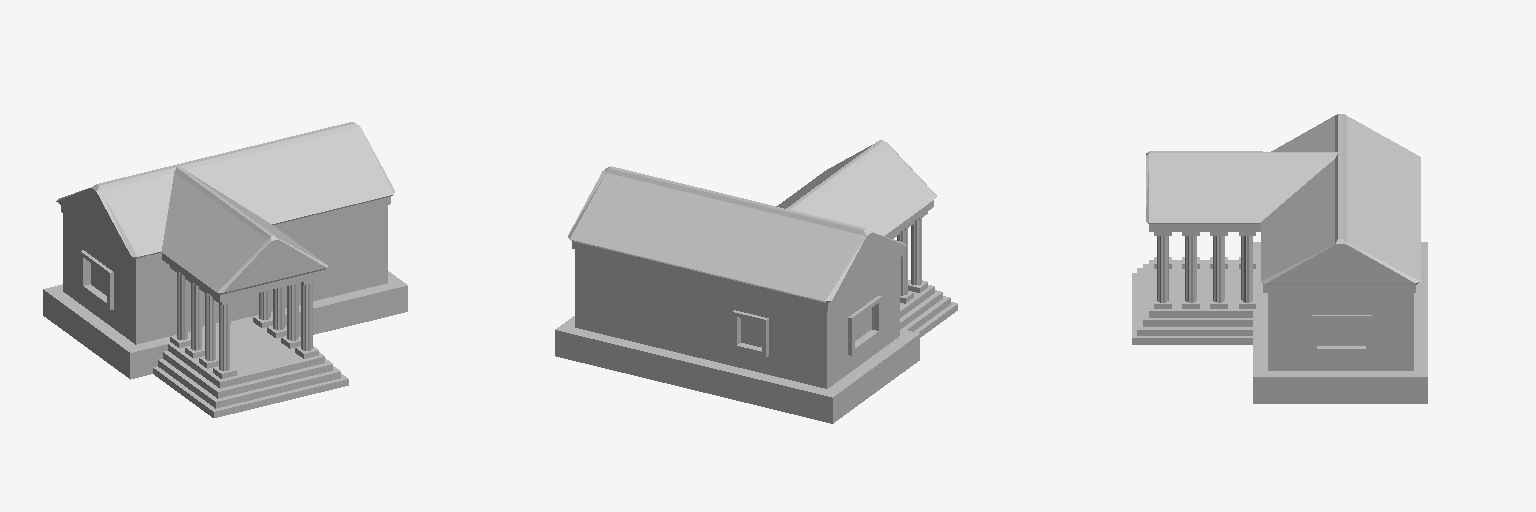
File: CasachicaV1.obj
3 renders of one model, left to right at view 1: azimuth 30°, elevation 25°; view 2: azimuth 150°, elevation 25°; view 3: azimuth 270°, elevation 25°, orthographic.
Visible parts, largest first — view 1: Casachica_m Casachica; view 2: Casachica_m Casachica; view 3: Casachica_m Casachica.
Boxes of the visible parts, x1,y1,x2,y2 form: Casachica_m Casachica: [43, 122, 407, 417]; Casachica_m Casachica: [555, 140, 957, 423]; Casachica_m Casachica: [1132, 114, 1427, 403].
Size of the model in its own units: 1100 by 605 by 1017.